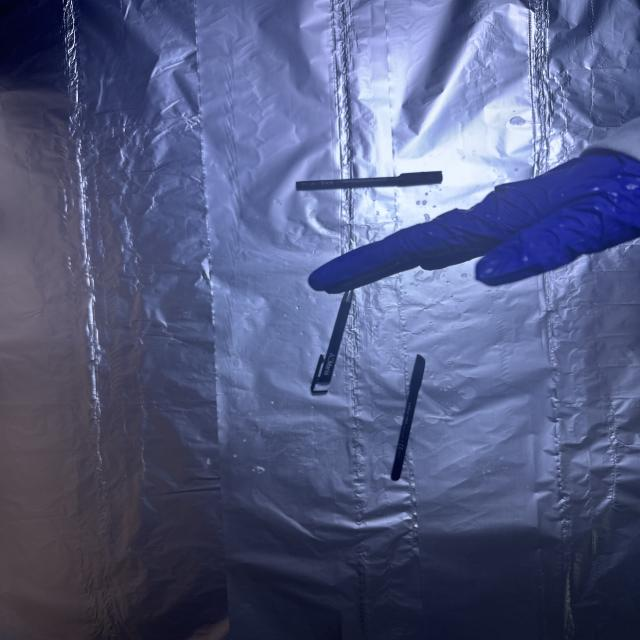gloves_contaminated: (308, 146, 640, 294)
